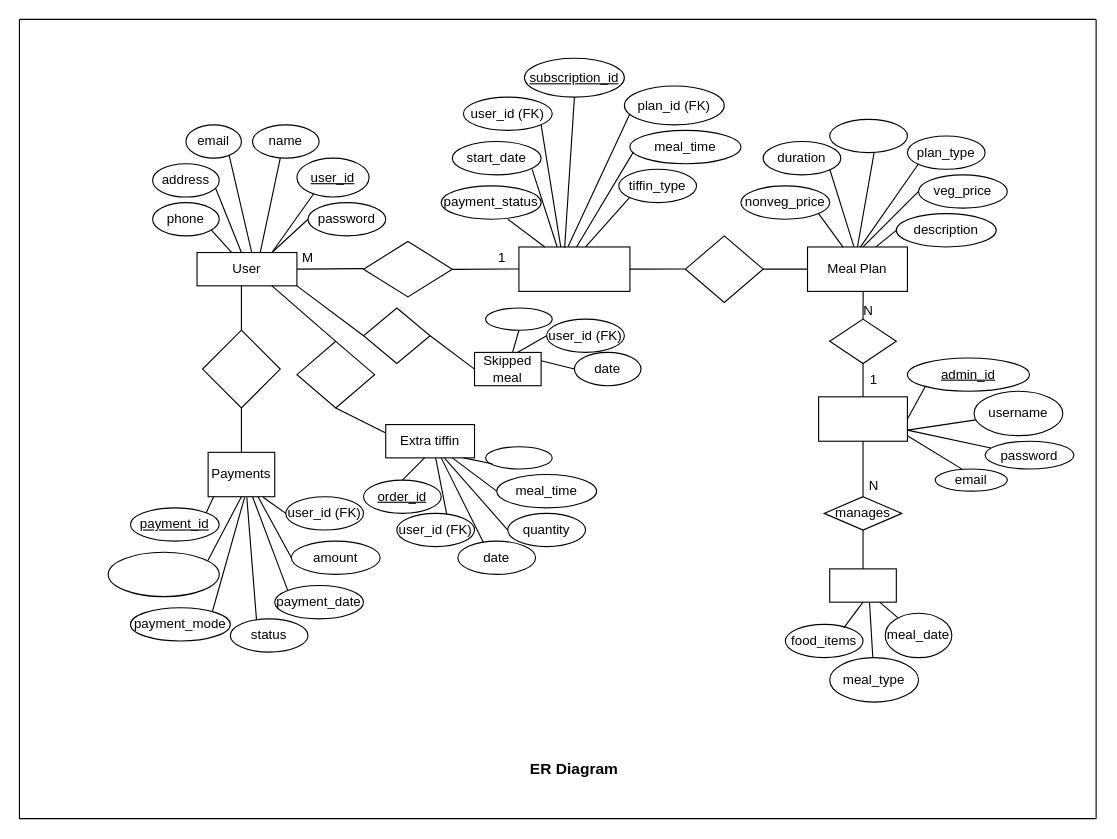
Some shapes in this 1117 by 839 pixel diagram are drawn without their labels. Here are the shapes that lost their labels. From the top down, the box of each, then its label:
(829, 118, 907, 153): plan_id
(362, 240, 452, 297): subscribes
(518, 246, 630, 291): User Subscription
(684, 235, 763, 302): based on
(362, 307, 430, 364): skips
(485, 307, 552, 330): skip_id
(829, 318, 896, 364): update
(201, 329, 280, 408): makes
(296, 340, 375, 408): orders
(818, 396, 907, 441): Admin
(485, 446, 552, 469): price
(107, 551, 219, 597): subscription_id (FK)
(829, 568, 896, 602): Meal Item
